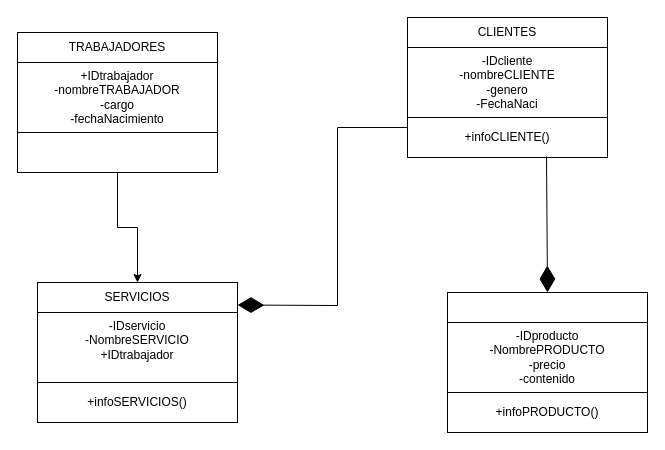
Image size: 665x450. Some labels were removed from this diagram. Here are the shapes that lost their labels. From the top down, the centre of each, then its label:
pixel 117 152: +infoTRABAJADOR()
pixel 547 307: PRODUCTOS
